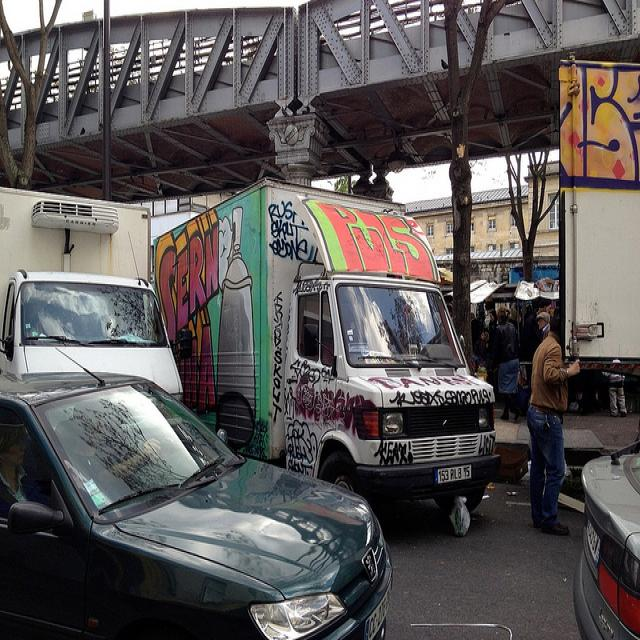Vehicle: (156, 178, 496, 519), (4, 372, 394, 630), (553, 54, 640, 382), (1, 268, 184, 404), (577, 438, 640, 640)
